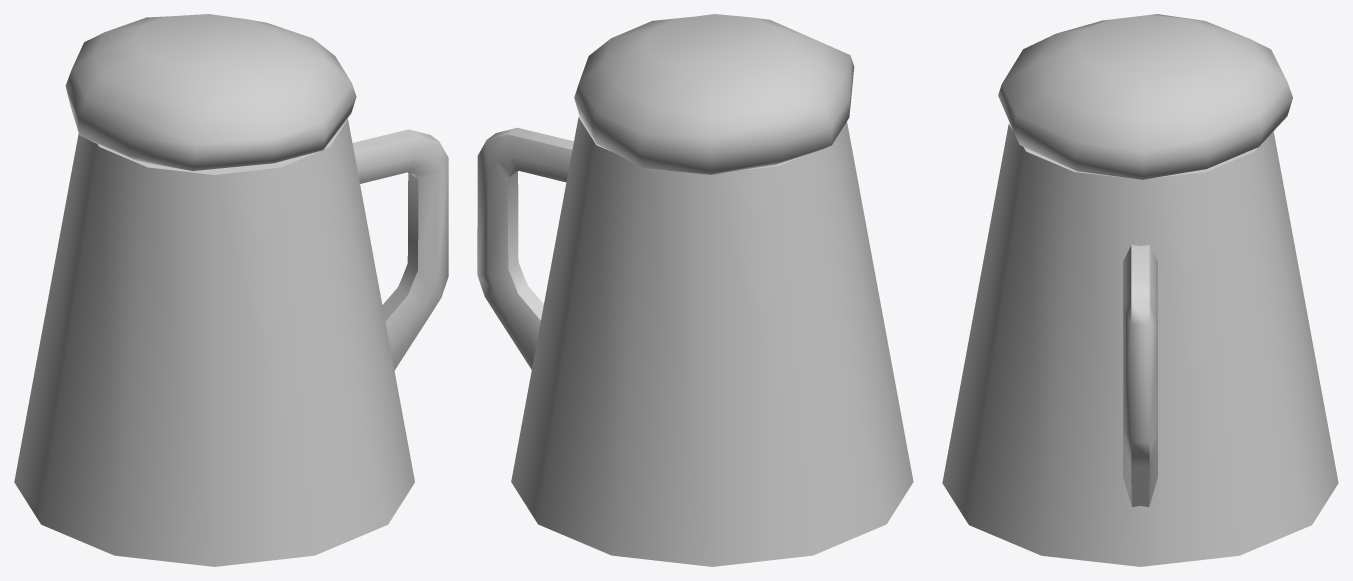
The model's file is BeerJug_04.fbx.
3 renders of one model, left to right at view 1: azimuth 30°, elevation 25°; view 2: azimuth 150°, elevation 25°; view 3: azimuth 270°, elevation 25°, orthographic.
Parts seen in each view (by area): view 1: BeerJug_04; view 2: BeerJug_04; view 3: BeerJug_04.
Part boxes in pixels (x1,y1,x2,y2): BeerJug_04: (14,14,448,566); BeerJug_04: (477,14,913,566); BeerJug_04: (942,14,1338,566).
Size of the model in its own units: 0.2461 by 0.2576 by 0.212.
